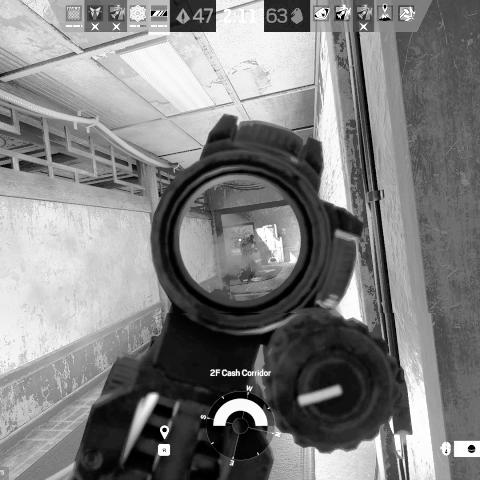Character: (239, 234, 259, 284)
Head: (250, 234, 255, 241)
